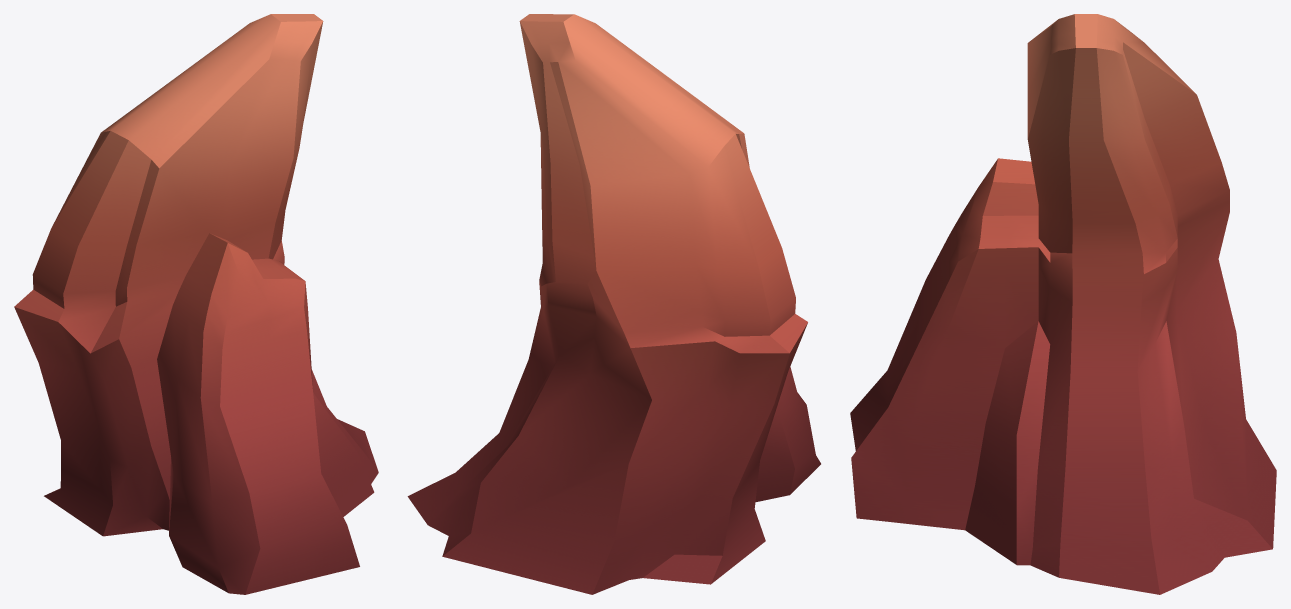
The model's file is SM_Cliffs_V05.fbx.
3 renders of one model, left to right at view 1: azimuth 30°, elevation 25°; view 2: azimuth 150°, elevation 25°; view 3: azimuth 270°, elevation 25°, orthographic. The views are drawn at different scales.
Visible parts, largest first — view 1: SM_Cliff_V05_C01_01; view 2: SM_Cliff_V05_C01_01; view 3: SM_Cliff_V05_C01_01.
Part boxes in pixels (x1,y1,x2,y2): SM_Cliff_V05_C01_01: [14, 14, 378, 594]; SM_Cliff_V05_C01_01: [407, 14, 820, 594]; SM_Cliff_V05_C01_01: [850, 14, 1276, 594].
Bounding box in the file's own units: 643 × 798 × 599.
